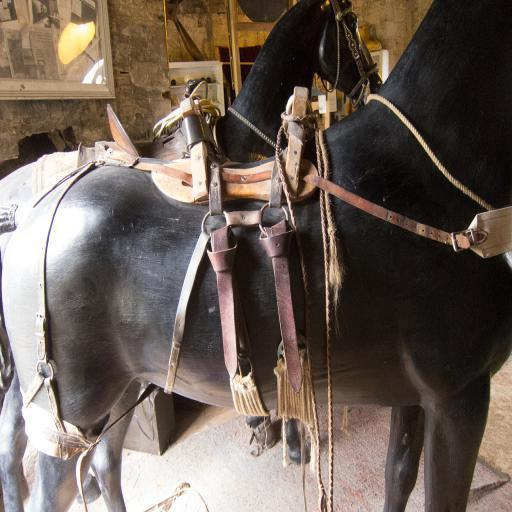horse: (0, 0, 512, 512), (0, 0, 385, 512)
